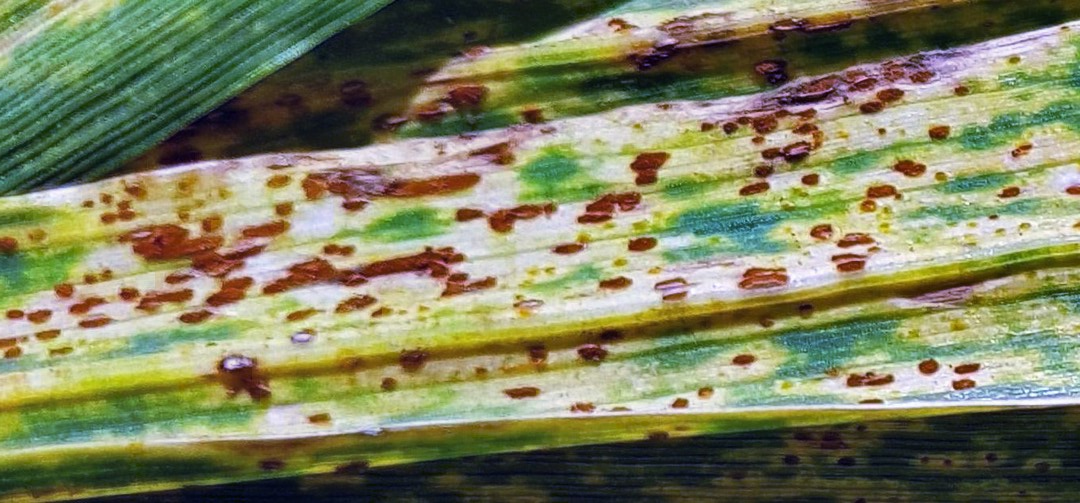Leaf Rust: (77, 1, 986, 415)
